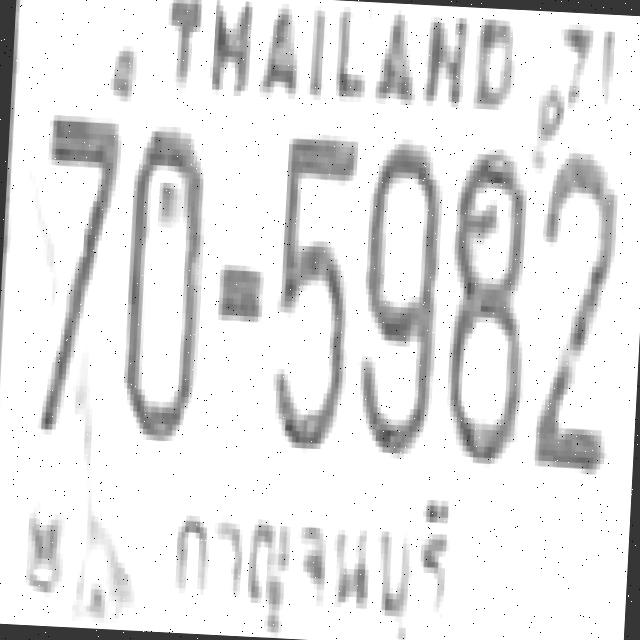0: (117, 117, 210, 440)
2: (529, 154, 622, 468), (529, 144, 620, 434)
5: (264, 127, 358, 445)
7: (32, 109, 121, 432)
8: (438, 142, 531, 460)
9: (352, 131, 444, 455)
Kanchanaburi: (167, 482, 460, 640)
